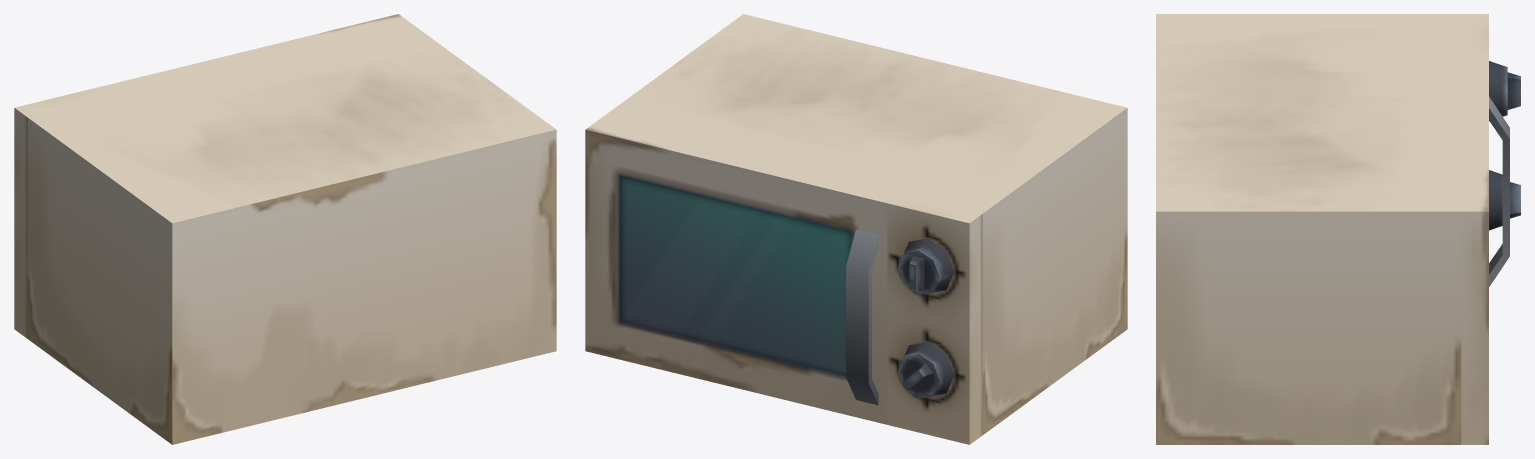
The model's file is ELT0110021.fbx.
3 views of the same model, side by side, from view 1: azimuth 30°, elevation 25°; view 2: azimuth 150°, elevation 25°; view 3: azimuth 270°, elevation 25° (orthographic). The views are drawn at different scales.
Visible parts, largest first — view 1: smELT0110021; view 2: smELT0110021; view 3: smELT0110021.
Part boxes in pixels (x1,y1,x2,y2): smELT0110021: [14, 14, 556, 444]; smELT0110021: [585, 14, 1127, 444]; smELT0110021: [1156, 14, 1520, 444].
Size of the model in its own units: 90.02 by 49.6 by 70.25.
Materials: 1 (1 with a texture image).
